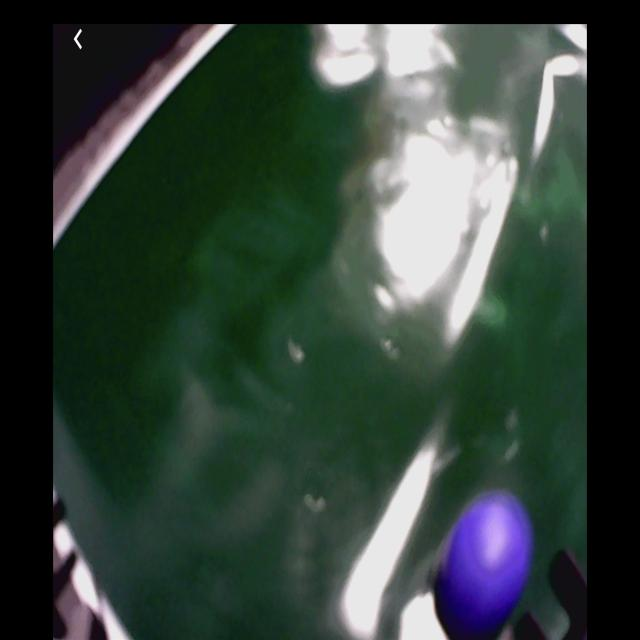ball: (441, 491, 534, 630)
